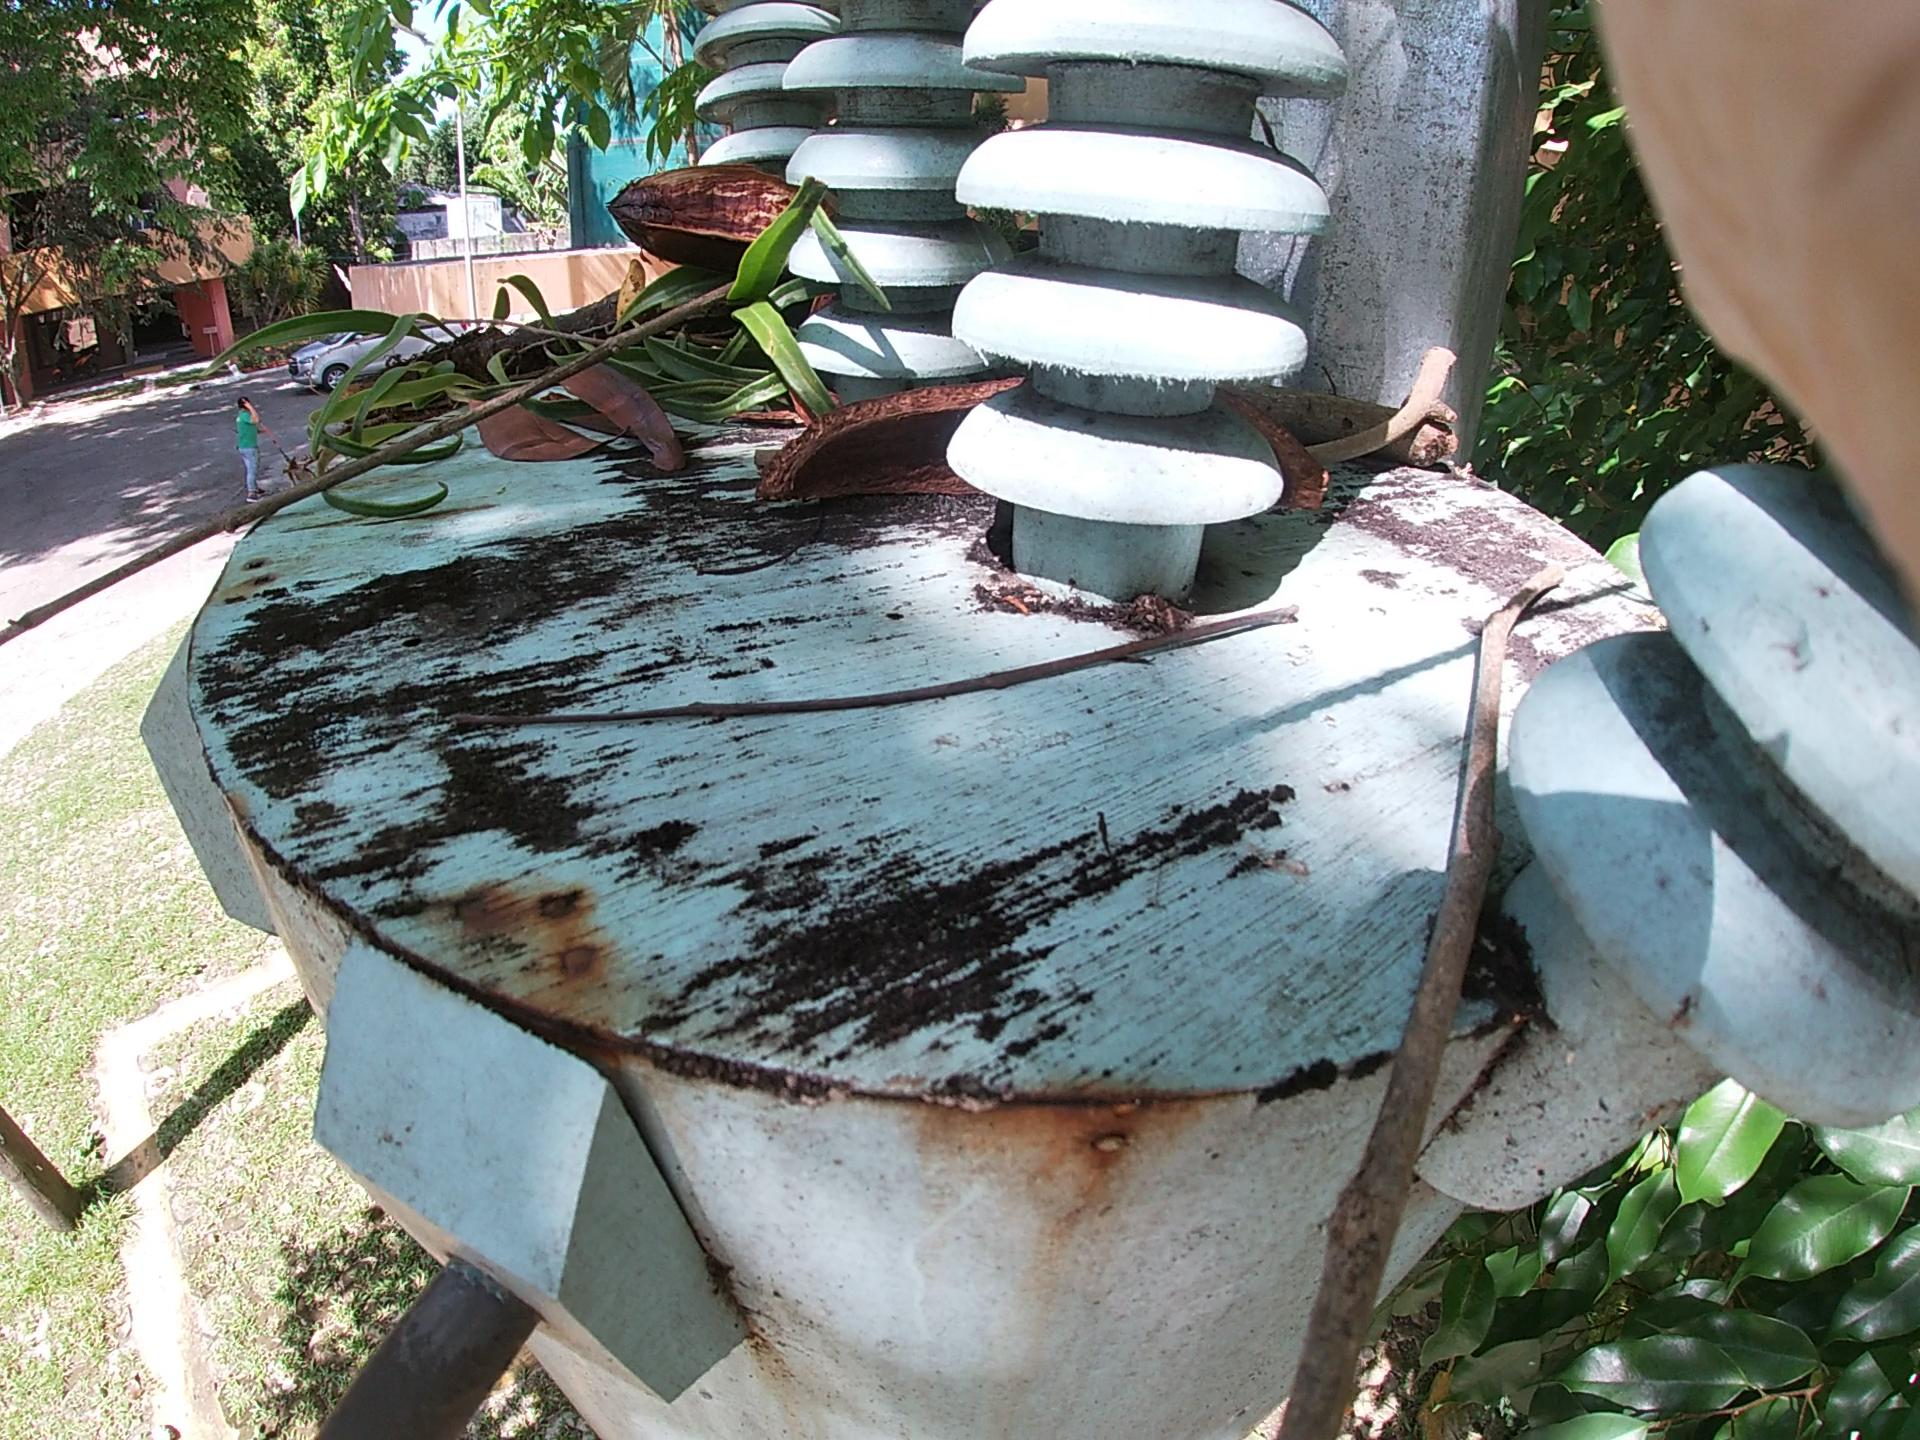branch with leaves: (48, 233, 816, 601), (333, 147, 1063, 404)
mahogany fruit: (742, 334, 1098, 535), (612, 135, 906, 318)
tree branch: (21, 250, 835, 610), (1323, 542, 1606, 1417), (401, 620, 1318, 731), (1243, 312, 1465, 489)
